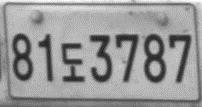1: (37, 32, 54, 83)
3: (88, 34, 112, 82)
7: (114, 33, 139, 82), (168, 33, 192, 84)
8: (142, 33, 167, 83), (11, 32, 33, 81)
도: (60, 42, 86, 82)
